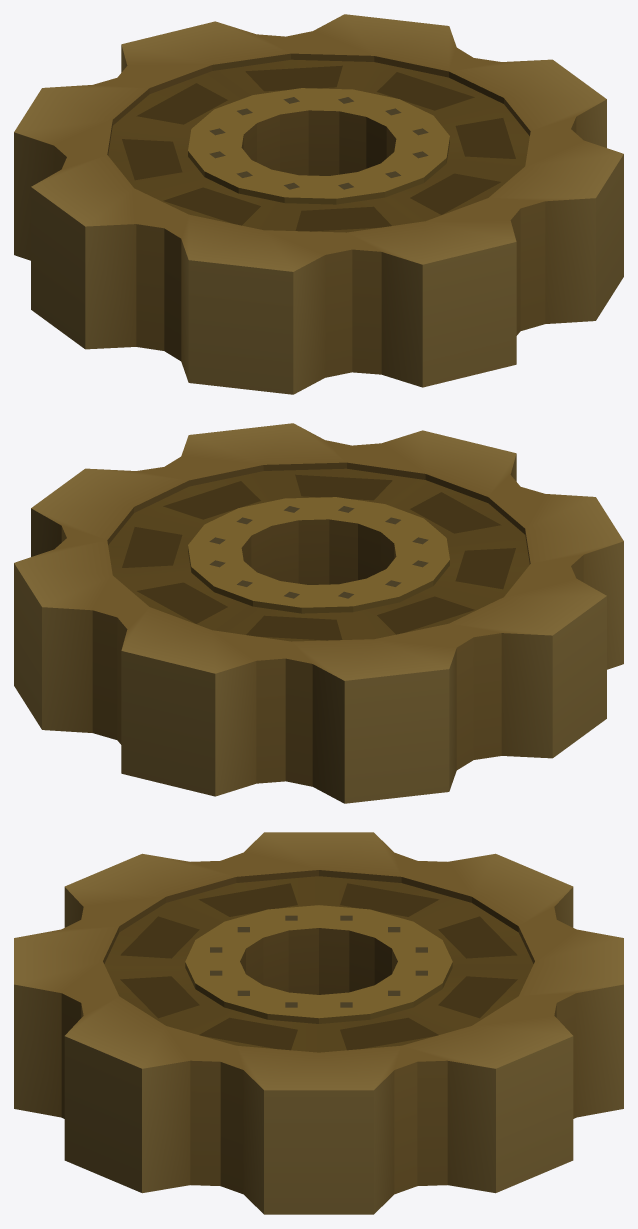
Rendered from machine.cog.bronze.glb.
3 views of the same model, one above another, from view 1: azimuth 30°, elevation 25°; view 2: azimuth 150°, elevation 25°; view 3: azimuth 270°, elevation 25° (orthographic).
Visible parts, largest first — view 1: machine_cog_bronze; view 2: machine_cog_bronze; view 3: machine_cog_bronze.
Part boxes in pixels (x1,y1,x2,y2): machine_cog_bronze: (14, 14, 623, 394); machine_cog_bronze: (14, 423, 623, 803); machine_cog_bronze: (14, 832, 623, 1214).
Size of what is drawn, in the model's own units: 8.89 by 2 by 8.89.
